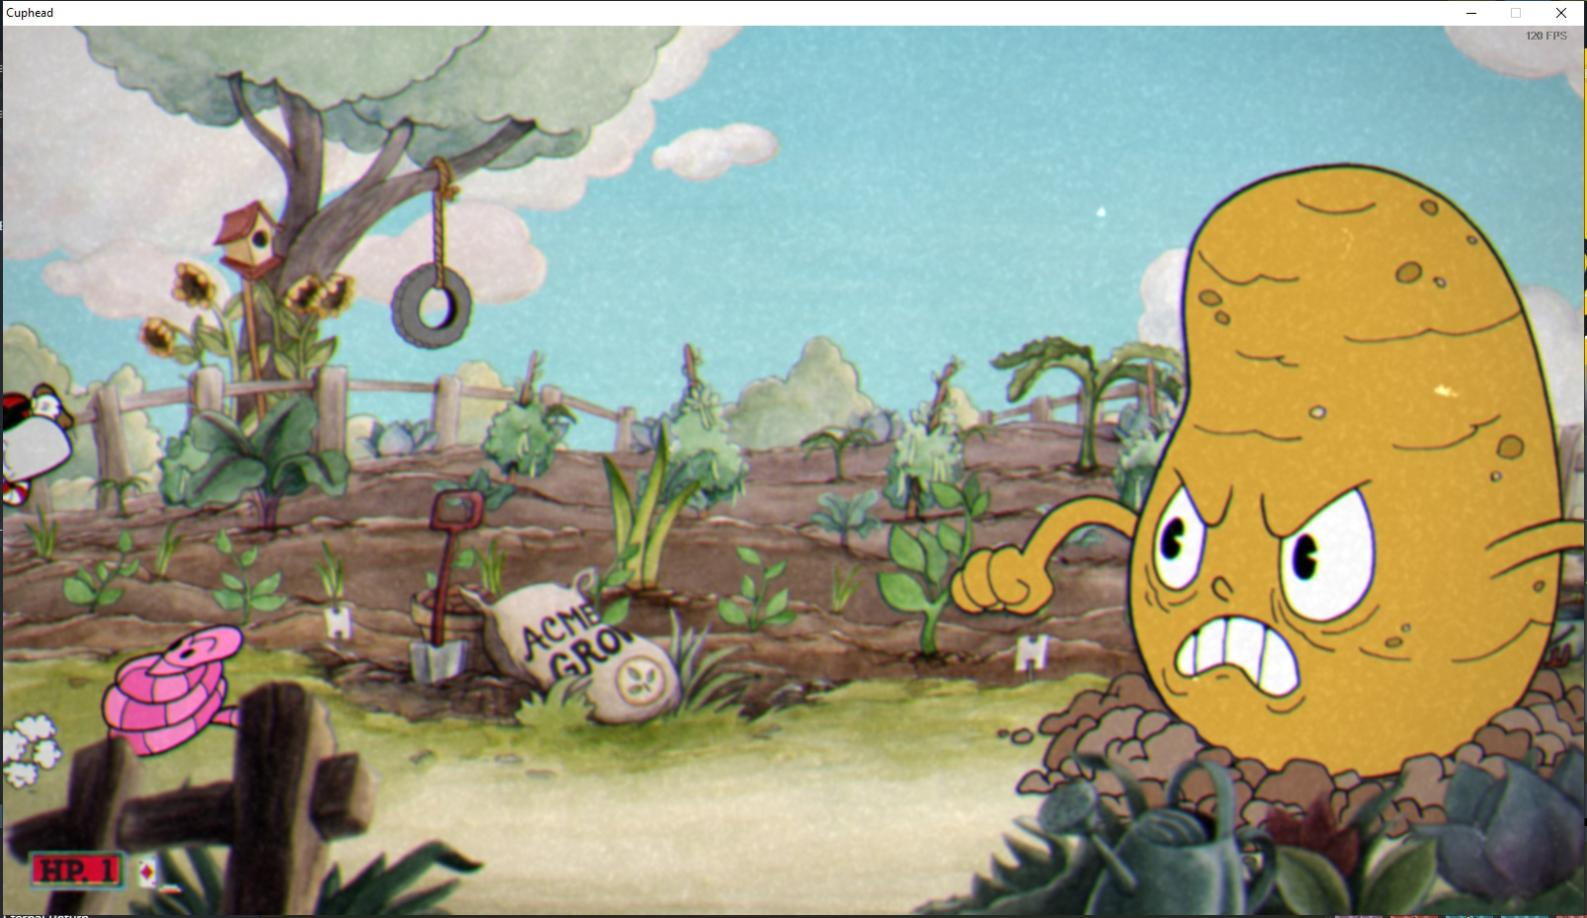hp1: (89, 846, 124, 890)
player: (3, 382, 80, 516)
potato_boss: (1116, 154, 1582, 800)
worm: (87, 614, 284, 760)
